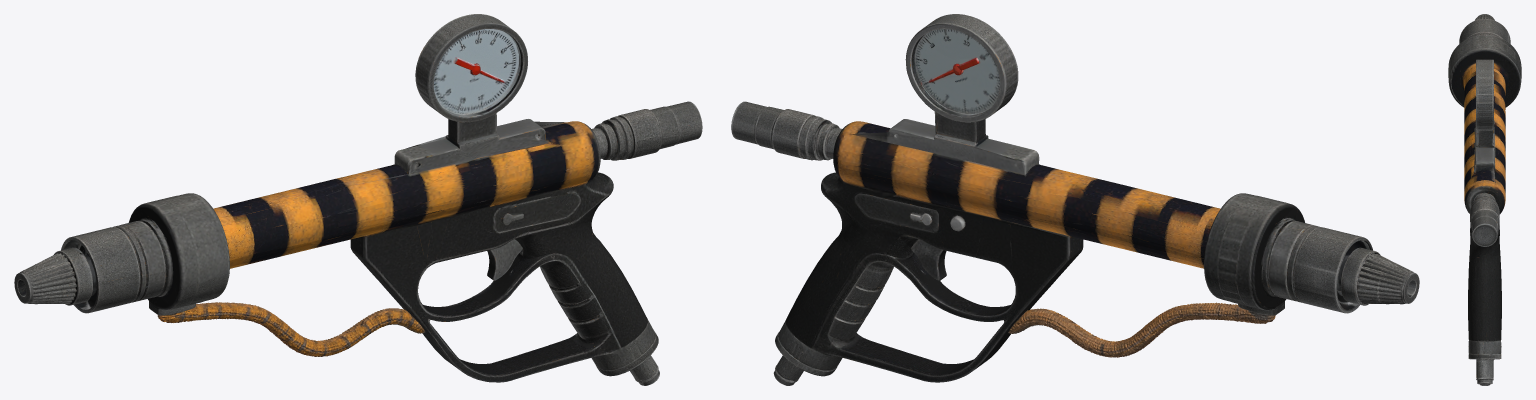
The model's file is lancia_D2.glb.
3 views of the same model, side by side, from view 1: azimuth 30°, elevation 25°; view 2: azimuth 150°, elevation 25°; view 3: azimuth 270°, elevation 25° (orthographic). The views are drawn at different scales.
Size of the model in its own units: 1.9 by 1.1 by 0.2732.
Materials: 1 (1 with a texture image).
